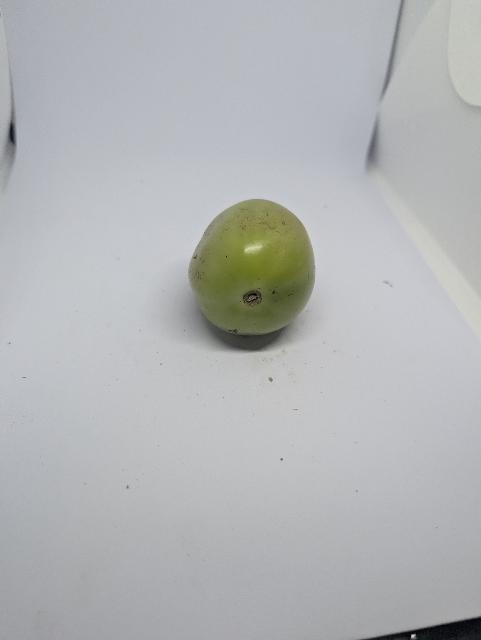green: (186, 196, 319, 339)
